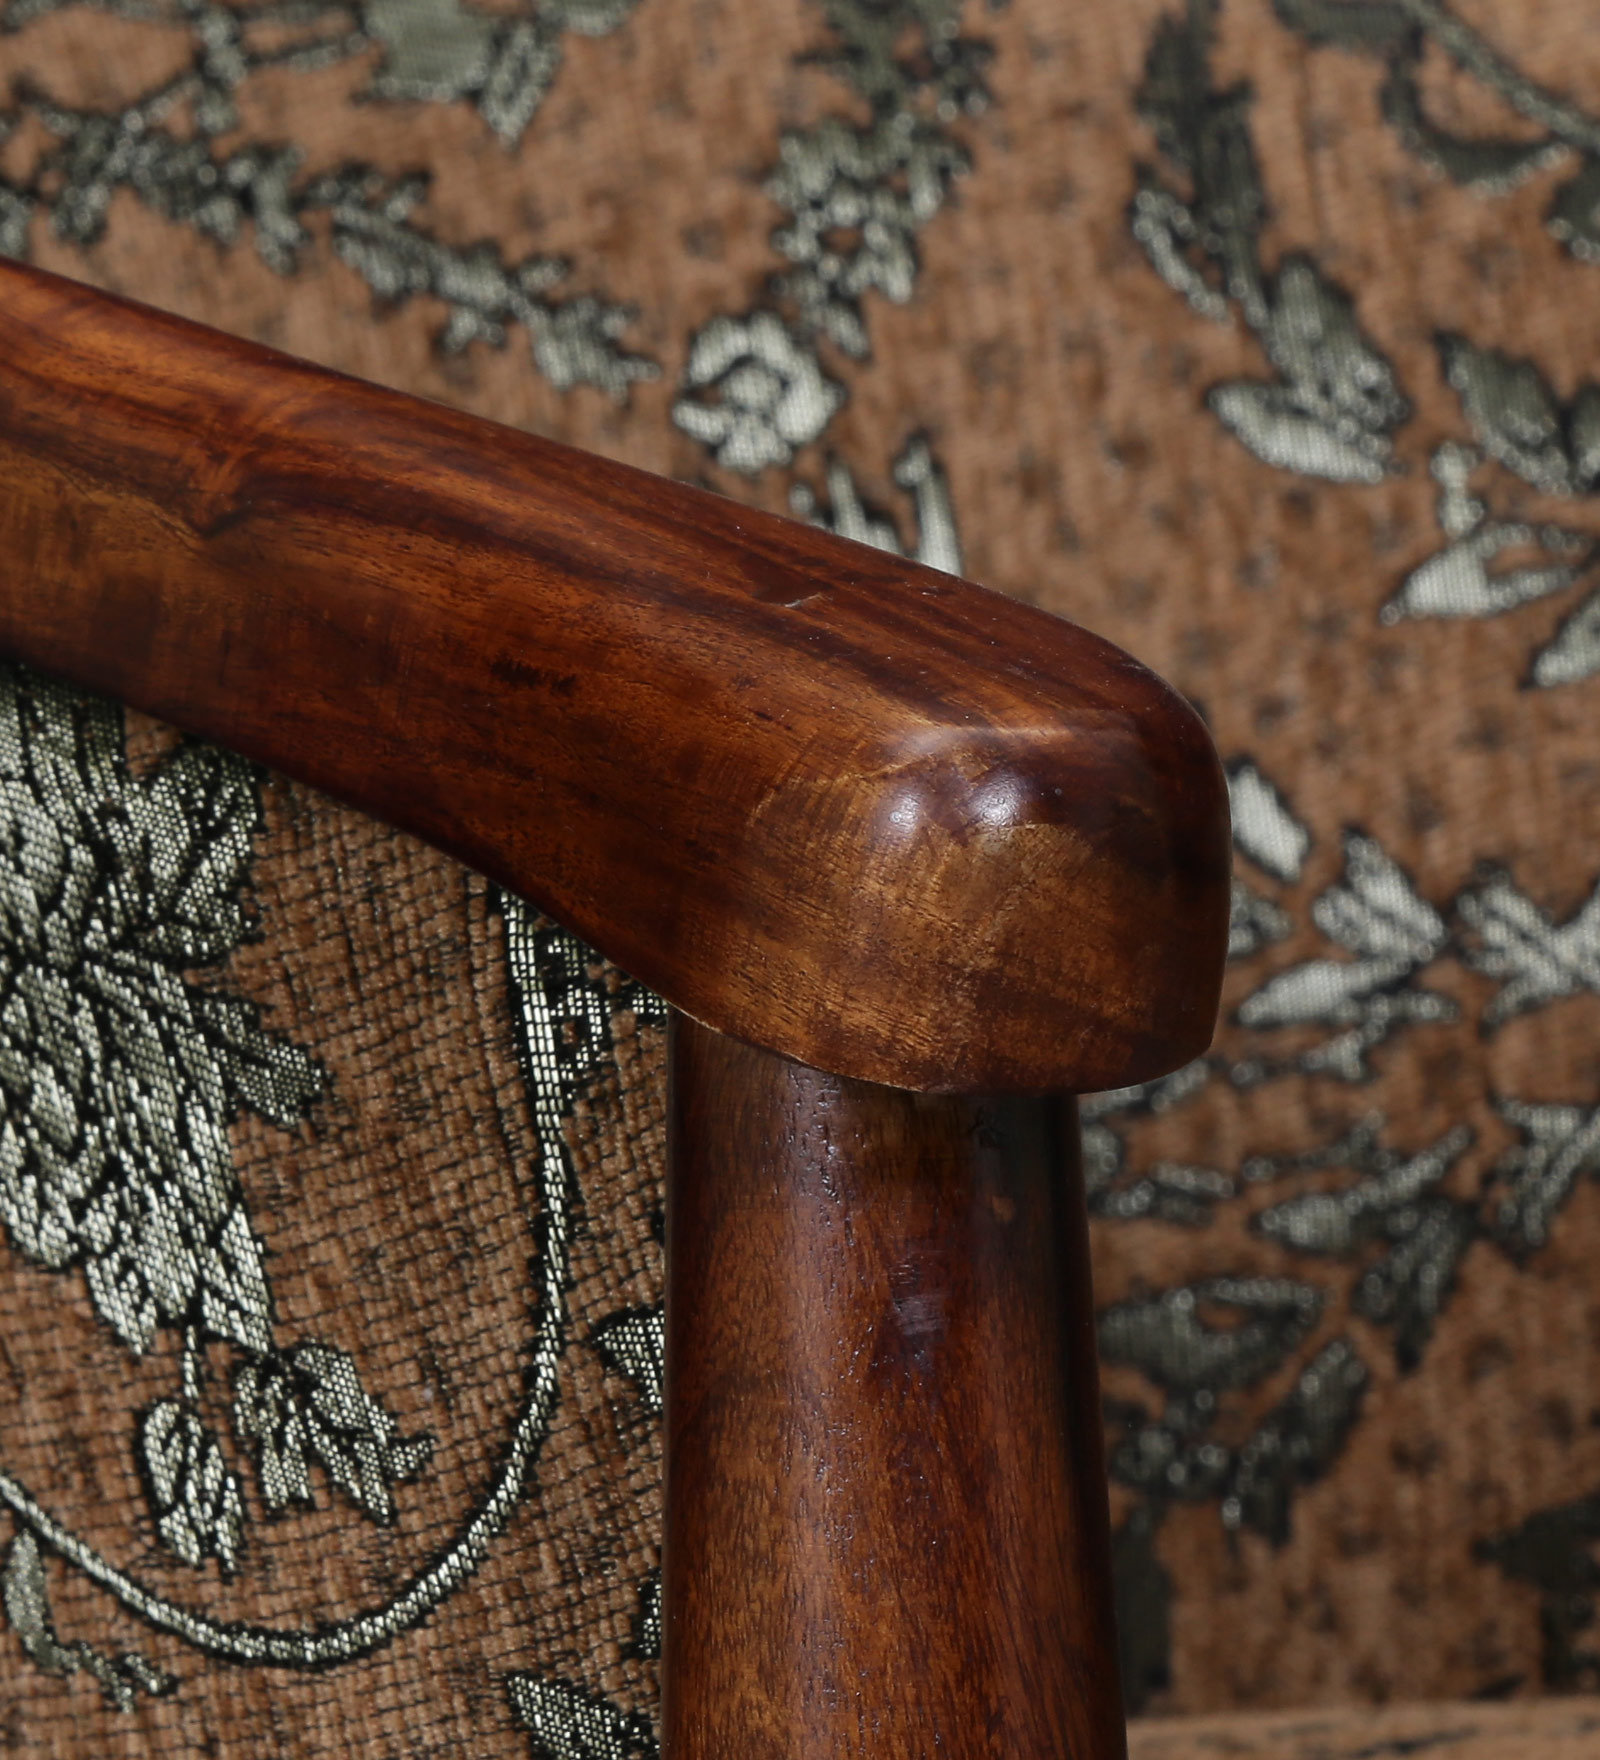Stalley Arm Chair in Honey Oak Finish by Amberville: (81, 186, 1510, 1666)
